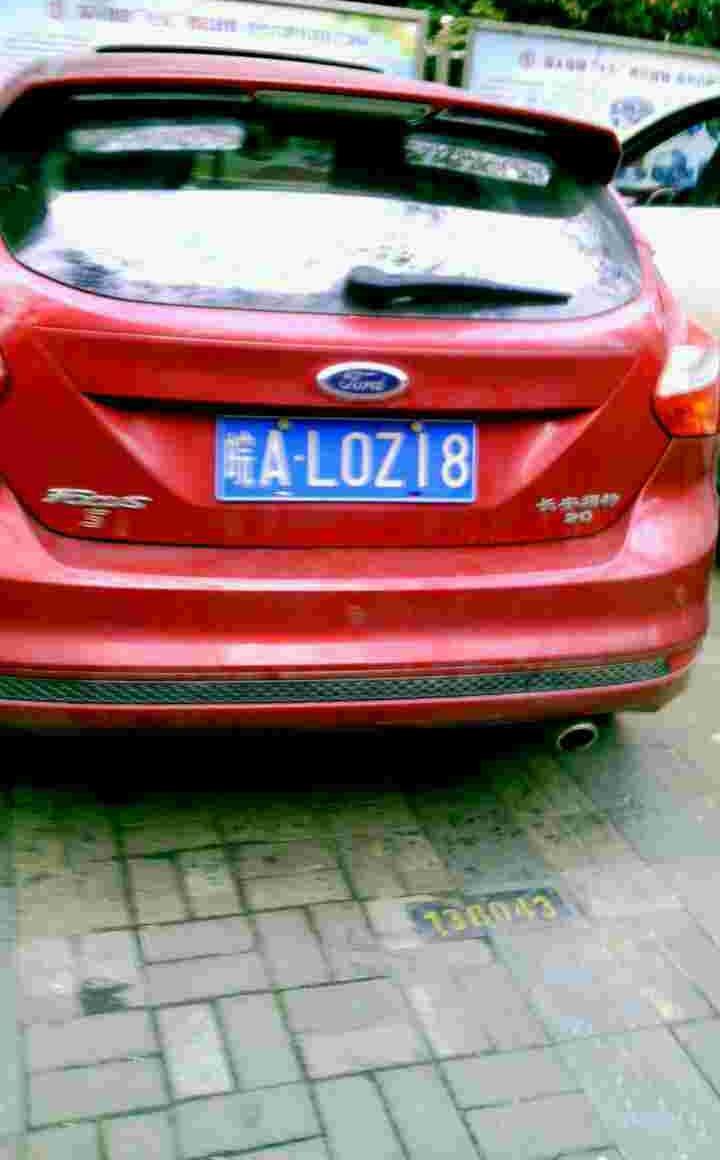license_plate: (213, 427, 482, 493)
